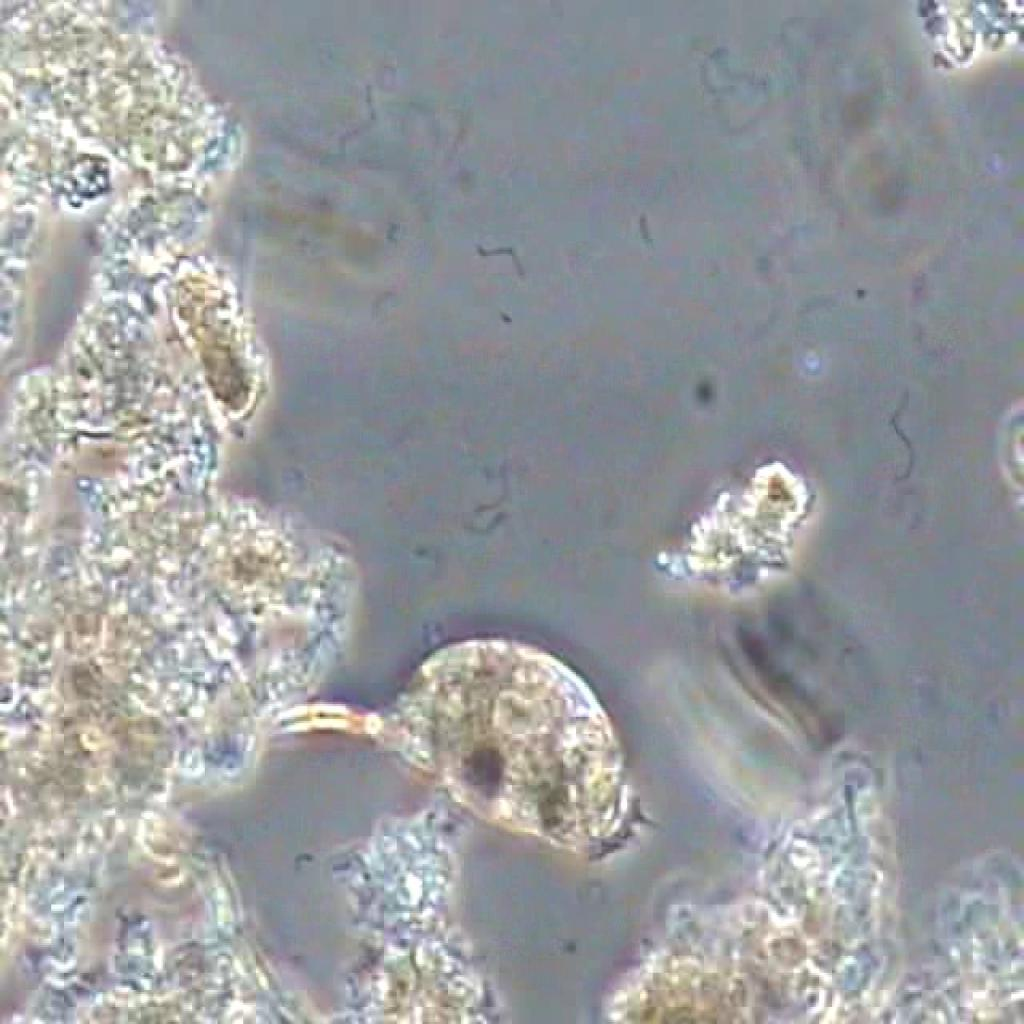Rotatoria: (329, 614, 665, 864)
